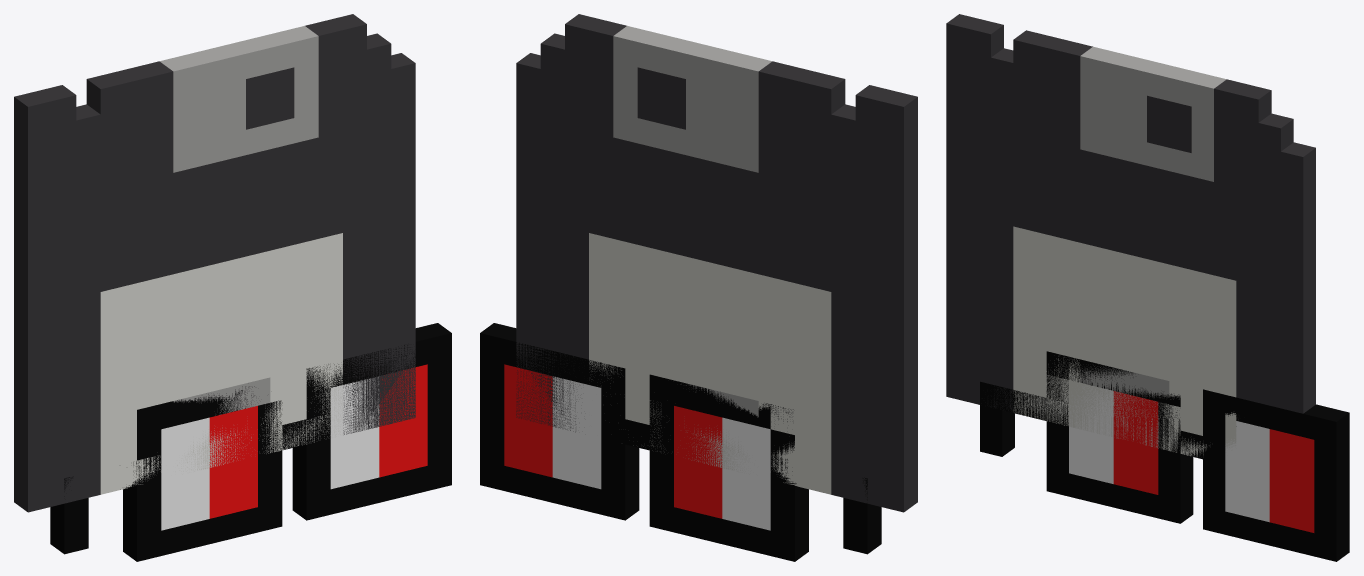
File: floppydisk.glb
3 views of the same model, side by side, from view 1: azimuth 30°, elevation 25°; view 2: azimuth 150°, elevation 25°; view 3: azimuth 330°, elevation 25° (orthographic). The views are drawn at different scales.
Parts seen in each view (by area): view 1: base, glasses, layer-2, mouth-; view 2: base, glasses, layer-2, mouth-; view 3: base, glasses, layer-2, mouth-.
Boxes of the visible parts, <box> form: base: <box>14,14,415,512</box>; glasses: <box>50,323,451,561</box>; layer-2: <box>161,364,427,530</box>; mouth-: <box>173,377,270,415</box>; base: <box>516,14,917,512</box>; glasses: <box>480,323,881,561</box>; layer-2: <box>504,364,770,530</box>; mouth-: <box>680,384,758,417</box>; base: <box>946,14,1315,457</box>; glasses: <box>980,351,1349,561</box>; layer-2: <box>1069,384,1314,532</box>; mouth-: <box>1080,364,1169,397</box>.
Bounding box in the file's own units: 17.5 × 19 × 1.
Materials: 7 (7 with a texture image).
